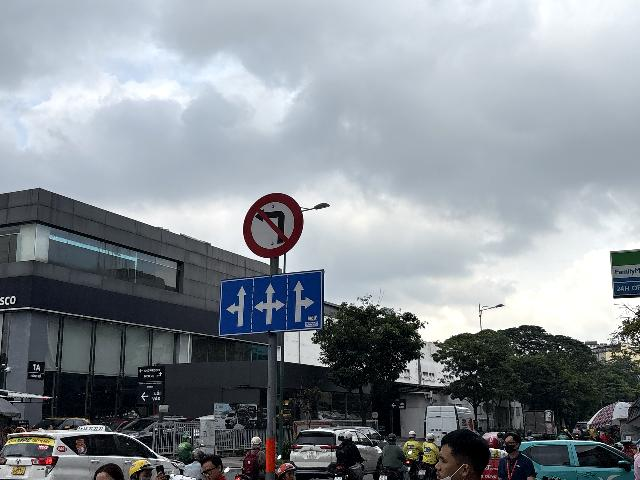cam-re-trai: (242, 192, 304, 258)
